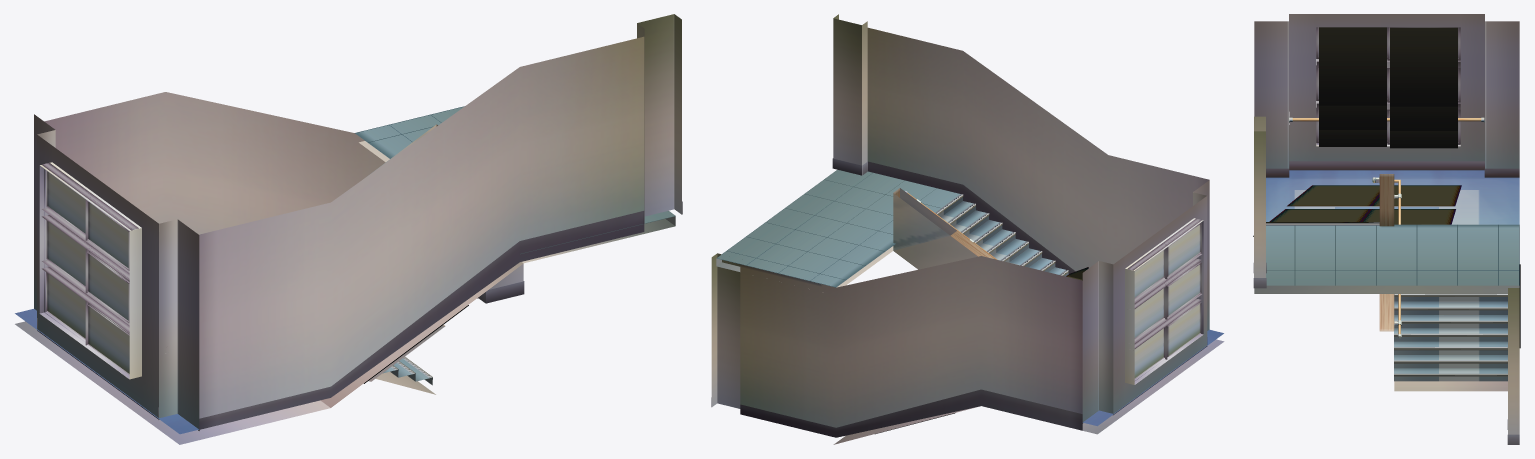
Rendered from JpsStairs_middlefloor.FBX.
The picture shows the model from 3 angles, left to right: view 1: azimuth 30°, elevation 25°; view 2: azimuth 150°, elevation 25°; view 3: azimuth 270°, elevation 25°; orthographic projection. The views are drawn at different scales.
Parts seen in each view (by area): view 1: Sta_middleF_wallB, Sta_MiddleF_window, Sta_middleF_wallF, Sta_middleF_stairs; view 2: Sta_middleF_wallF, Sta_middleF_wallB, Sta_middleF_stairs, Sta_MiddleF_window; view 3: Sta_middleF_stairs, Sta_MiddleF_window, Sta_MiddleF_beam_add, Sta_middleF_spotF, Sta_MiddleF_baseboards, Sta_middleF_wallB, Sta_middleF_wallF.
Part boxes in pixels (<box>): Sta_middleF_wallB: <box>199,14,682,429</box>; Sta_MiddleF_window: <box>34,114,199,429</box>; Sta_middleF_wallF: <box>44,92,524,303</box>; Sta_middleF_stairs: <box>15,106,675,444</box>; Sta_middleF_wallF: <box>711,253,1082,437</box>; Sta_middleF_wallB: <box>832,14,1209,273</box>; Sta_middleF_stairs: <box>716,169,1224,444</box>; Sta_MiddleF_window: <box>1082,180,1209,422</box>; Sta_middleF_stairs: <box>1254,170,1519,391</box>; Sta_MiddleF_window: <box>1254,14,1519,168</box>; Sta_MiddleF_beam_add: <box>1319,27,1457,148</box>; Sta_middleF_spotF: <box>1266,185,1461,224</box>; Sta_MiddleF_baseboards: <box>1266,161,1519,177</box>; Sta_middleF_wallB: <box>1253,116,1266,288</box>; Sta_middleF_wallF: <box>1507,288,1519,444</box>.
Bounding box in the file's own units: 826 × 616 × 463.
